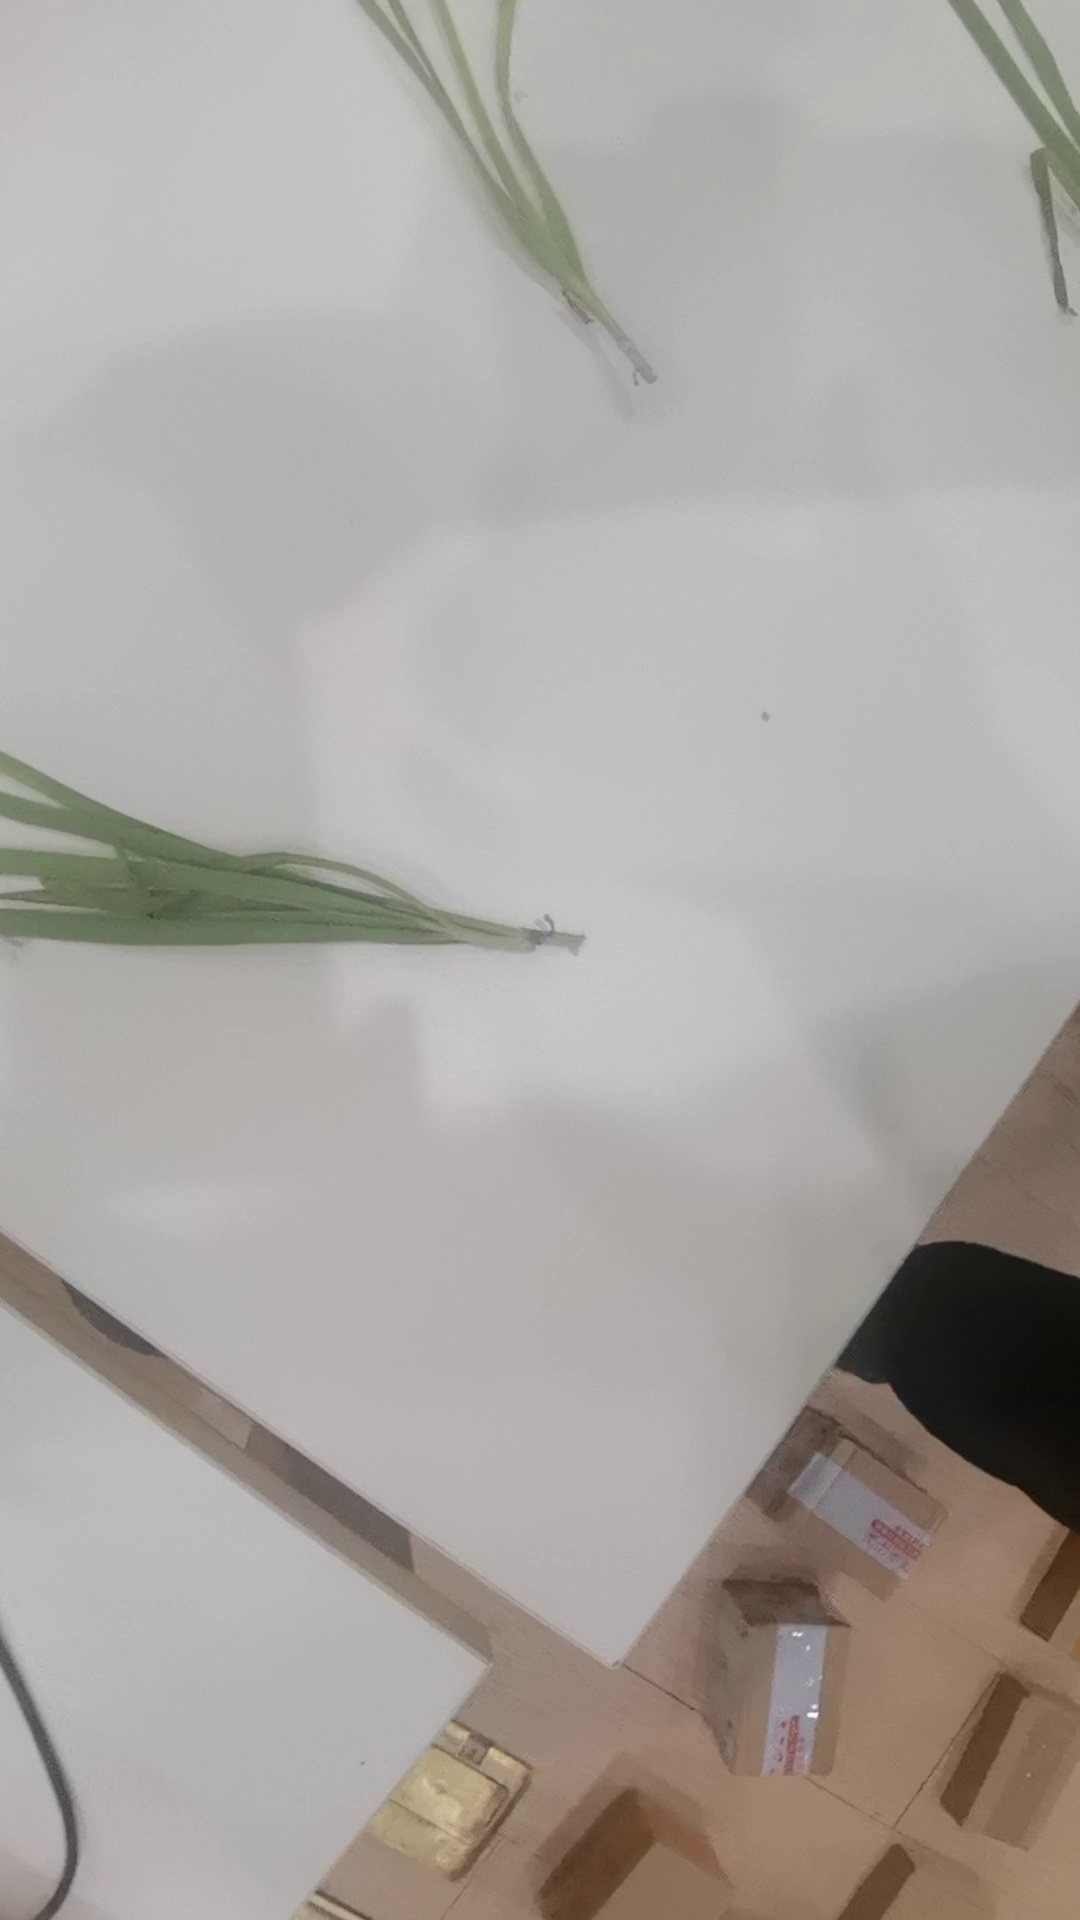chives: (1, 741, 598, 974), (359, 1, 675, 394)
